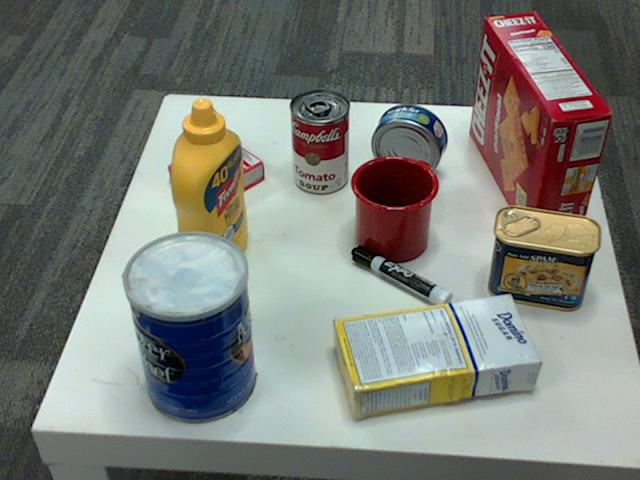cracker_box: (469, 10, 611, 239)
gelatin_box: (166, 132, 264, 207)
large_marker: (351, 246, 452, 313)
master_chef_can: (119, 233, 255, 426)
mug: (348, 154, 437, 260)
mustard_bottle: (168, 98, 247, 281)
potted_meat_can: (486, 206, 599, 310)
sugar_box: (329, 292, 539, 417)
tomato_soup_can: (289, 90, 349, 194)
tuna_fish_can: (369, 103, 446, 178)
